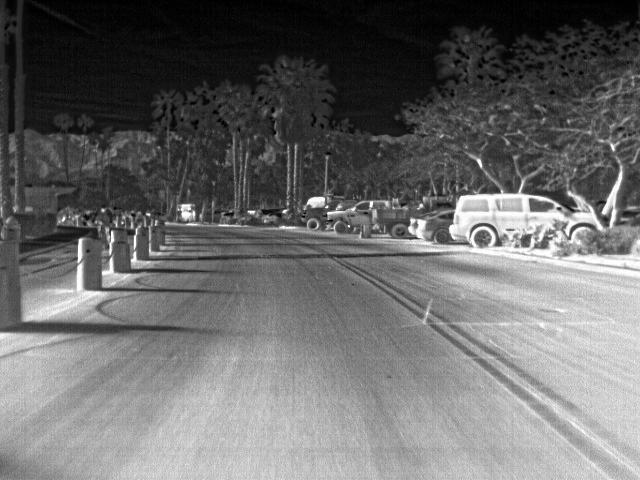car: (451, 192, 602, 251), (418, 208, 452, 242), (324, 206, 354, 234), (300, 208, 327, 232), (406, 208, 419, 238), (218, 211, 236, 225), (254, 209, 271, 221), (268, 209, 282, 223)
person: (94, 204, 113, 226)
